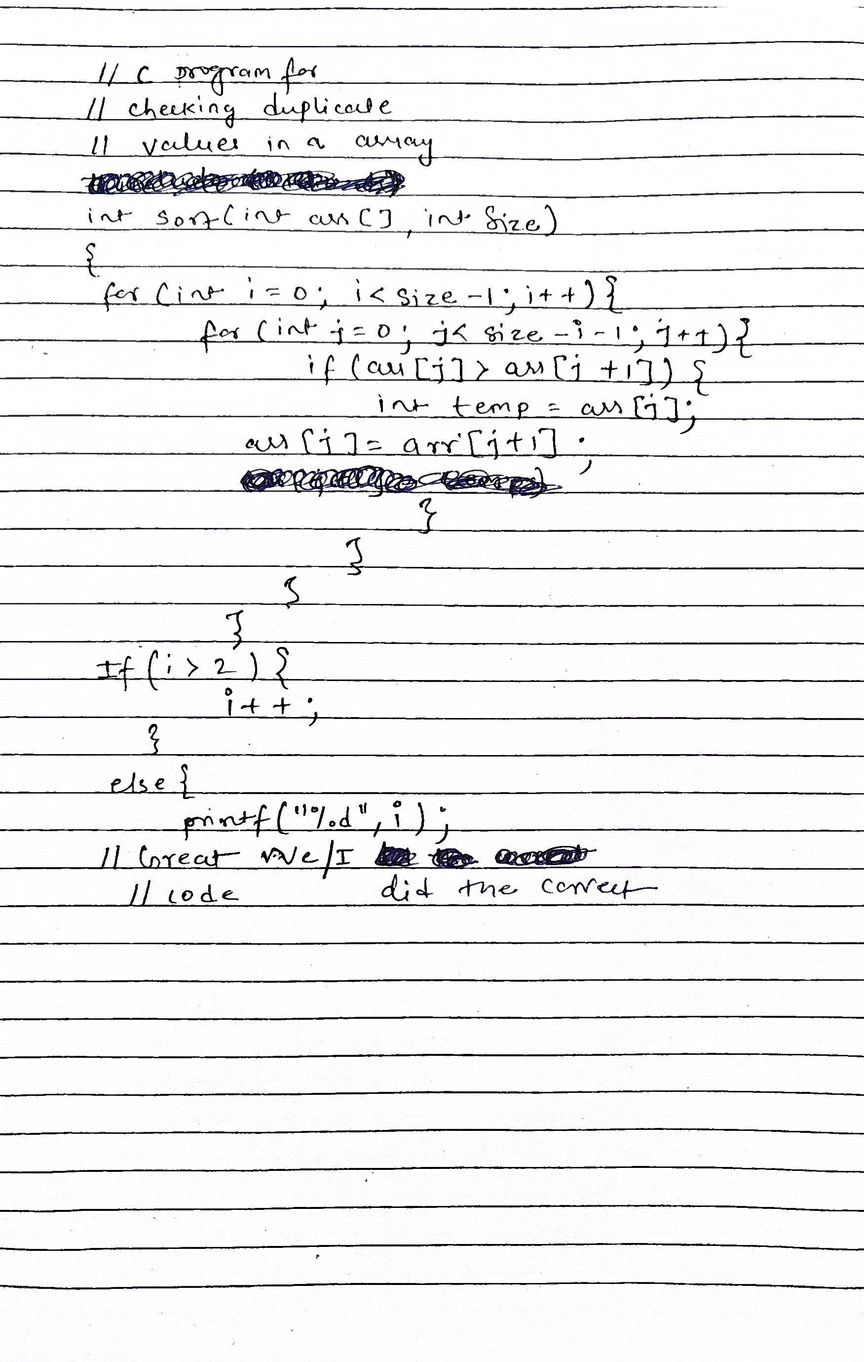cuttings: (234, 464, 563, 500), (86, 169, 410, 200), (496, 843, 591, 869), (375, 840, 415, 868), (432, 847, 476, 868)
